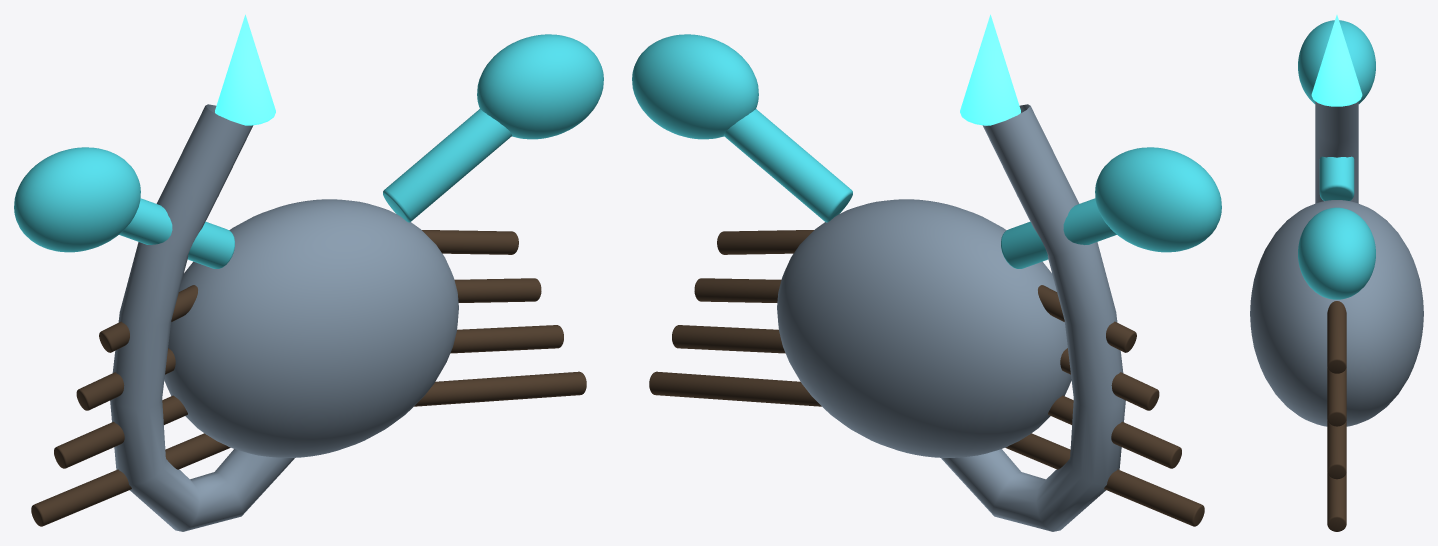
Rendered from arachnid_v3.glb.
The picture shows the model from 3 angles, left to right: view 1: azimuth 30°, elevation 25°; view 2: azimuth 150°, elevation 25°; view 3: azimuth 270°, elevation 25°; orthographic projection. The views are drawn at different scales.
Parts seen in each view (by area): view 1: SCORPION_BODY_PRIMARY, SCORPION_TAIL_PRIMARY, CLAW_ACCENT, CLAW_ACCENT.001, CLAW_ARM_ACCENT.001, SCORPION_LEG_SECONDARY.007, SCORPION_LEG_SECONDARY.006, STINGER_EMISSIVE, CLAW_ARM_ACCENT, SCORPION_LEG_SECONDARY.005, SCORPION_LEG_SECONDARY.004, SCORPION_LEG_SECONDARY.001 (+3 smaller); view 2: SCORPION_BODY_PRIMARY, SCORPION_TAIL_PRIMARY, CLAW_ACCENT, CLAW_ACCENT.001, CLAW_ARM_ACCENT.001, SCORPION_LEG_SECONDARY.007, SCORPION_LEG_SECONDARY.006, STINGER_EMISSIVE, CLAW_ARM_ACCENT, SCORPION_LEG_SECONDARY.005, SCORPION_LEG_SECONDARY.004, SCORPION_LEG_SECONDARY.001 (+3 smaller); view 3: SCORPION_BODY_PRIMARY, CLAW_ACCENT.001, CLAW_ACCENT, SCORPION_TAIL_PRIMARY, STINGER_EMISSIVE, CLAW_ARM_ACCENT, SCORPION_LEG_SECONDARY.001, SCORPION_LEG_SECONDARY.005, SCORPION_LEG_SECONDARY.003, SCORPION_LEG_SECONDARY.007.
Part boxes in pixels (left/top/right/bottom): SCORPION_BODY_PRIMARY: left=164, top=199, right=458, bottom=457; SCORPION_TAIL_PRIMARY: left=110, top=104, right=294, bottom=531; CLAW_ACCENT: left=14, top=147, right=140, bottom=252; CLAW_ACCENT.001: left=477, top=34, right=603, bottom=139; CLAW_ARM_ACCENT.001: left=383, top=109, right=512, bottom=222; SCORPION_LEG_SECONDARY.007: left=414, top=371, right=586, bottom=406; SCORPION_LEG_SECONDARY.006: left=31, top=433, right=230, bottom=526; STINGER_EMISSIVE: left=215, top=14, right=275, bottom=125; CLAW_ARM_ACCENT: left=119, top=198, right=234, bottom=268; SCORPION_LEG_SECONDARY.005: left=450, top=325, right=563, bottom=353; SCORPION_LEG_SECONDARY.004: left=54, top=395, right=187, bottom=468; SCORPION_LEG_SECONDARY.001: left=422, top=230, right=518, bottom=254; SCORPION_BODY_PRIMARY: left=777, top=199, right=1071, bottom=457; SCORPION_TAIL_PRIMARY: left=941, top=104, right=1125, bottom=531; CLAW_ACCENT: left=1095, top=147, right=1221, bottom=252; CLAW_ACCENT.001: left=632, top=34, right=758, bottom=139; CLAW_ARM_ACCENT.001: left=723, top=109, right=852, bottom=222; SCORPION_LEG_SECONDARY.007: left=649, top=371, right=821, bottom=406; SCORPION_LEG_SECONDARY.006: left=1005, top=433, right=1204, bottom=526; STINGER_EMISSIVE: left=960, top=14, right=1020, bottom=125; CLAW_ARM_ACCENT: left=1001, top=198, right=1116, bottom=268; SCORPION_LEG_SECONDARY.005: left=672, top=325, right=785, bottom=353; SCORPION_LEG_SECONDARY.004: left=1048, top=395, right=1181, bottom=468; SCORPION_LEG_SECONDARY.001: left=717, top=230, right=813, bottom=254; SCORPION_BODY_PRIMARY: left=1250, top=200, right=1423, bottom=426; CLAW_ACCENT.001: left=1298, top=207, right=1375, bottom=299; CLAW_ACCENT: left=1298, top=20, right=1375, bottom=103; SCORPION_TAIL_PRIMARY: left=1315, top=101, right=1358, bottom=203; STINGER_EMISSIVE: left=1311, top=15, right=1362, bottom=106; CLAW_ARM_ACCENT: left=1319, top=156, right=1354, bottom=200; SCORPION_LEG_SECONDARY.001: left=1327, top=301, right=1346, bottom=373; SCORPION_LEG_SECONDARY.005: left=1327, top=420, right=1346, bottom=479; SCORPION_LEG_SECONDARY.003: left=1327, top=368, right=1346, bottom=426; SCORPION_LEG_SECONDARY.007: left=1327, top=473, right=1346, bottom=531.
Size of the model in its own units: 2.56 by 2.1 by 0.8.
